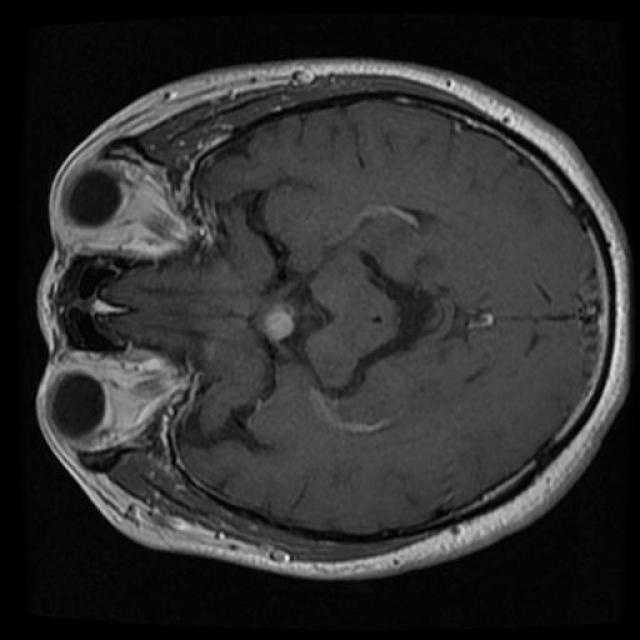Pituitary: (263, 304, 294, 341)
